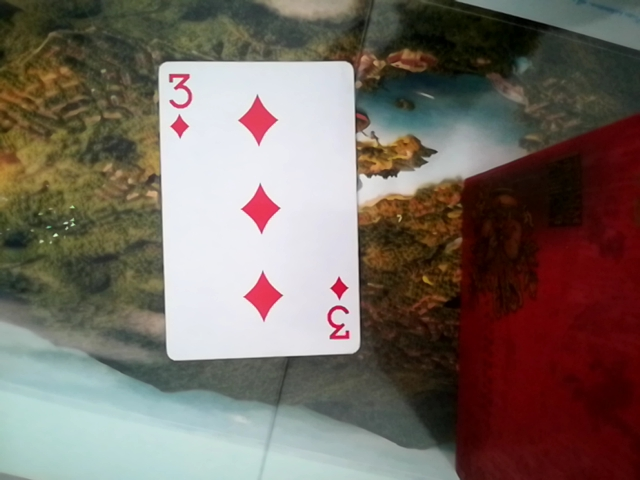fk 3: (155, 49, 371, 362)
